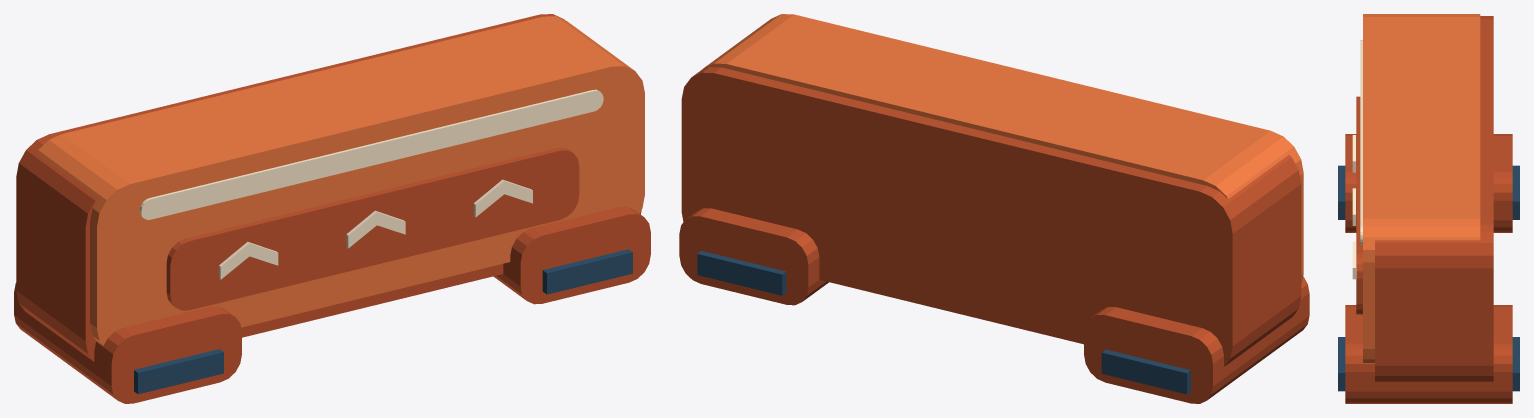
File: jump.glb
3 views of the same model, side by side, from view 1: azimuth 30°, elevation 25°; view 2: azimuth 150°, elevation 25°; view 3: azimuth 270°, elevation 25° (orthographic). The views are drawn at different scales.
Parts seen in each view (by area): view 1: jump_Orange, jump_OrangeDark, jump_Cream, jump_Navy; view 2: jump_OrangeDark, jump_Orange, jump_Navy; view 3: jump_OrangeDark, jump_Orange, jump_Navy, jump_Cream.
Part boxes in pixels (left/top/right/bottom): jump_Orange: left=36, top=16, right=644, bottom=345; jump_OrangeDark: left=14, top=14, right=650, bottom=403; jump_Cream: left=140, top=89, right=603, bottom=279; jump_Navy: left=134, top=249, right=632, bottom=394; jump_OrangeDark: left=679, top=67, right=1309, bottom=403; jump_Orange: left=702, top=14, right=1303, bottom=284; jump_Navy: left=697, top=251, right=1190, bottom=394; jump_OrangeDark: left=1345, top=16, right=1512, bottom=403; jump_Orange: left=1363, top=14, right=1480, bottom=362; jump_Navy: left=1338, top=165, right=1519, bottom=391; jump_Cream: left=1352, top=40, right=1362, bottom=279.
Bounding box in the file's own units: 1.88 × 0.678 × 0.62.
